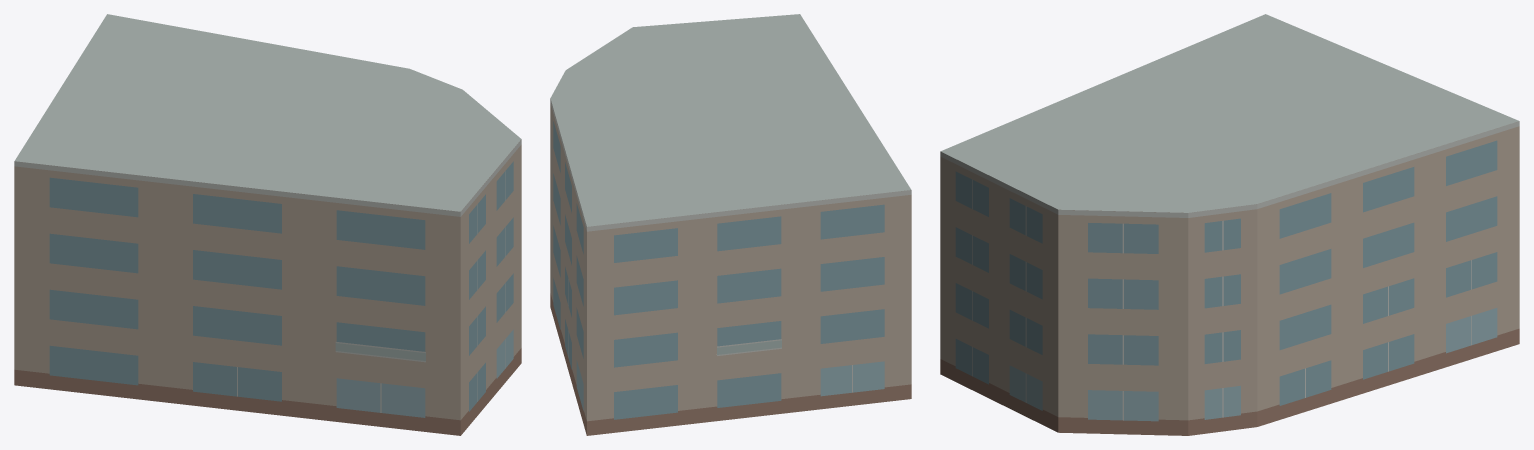
File: survey-upis-32587666.glb
3 views of the same model, side by side, from view 1: azimuth 30°, elevation 25°; view 2: azimuth 150°, elevation 25°; view 3: azimuth 270°, elevation 25° (orthographic). The views are drawn at different scales.
Visible parts, largest first — view 1: survey-upis-32587666.tmp; view 2: survey-upis-32587666.tmp; view 3: survey-upis-32587666.tmp.
Part boxes in pixels (x1,y1,x2,y2): survey-upis-32587666.tmp: (14,14,521,435); survey-upis-32587666.tmp: (550,14,911,435); survey-upis-32587666.tmp: (940,14,1519,435).
Bounding box in the file's own units: 20.29 × 10.6 × 24.96.
